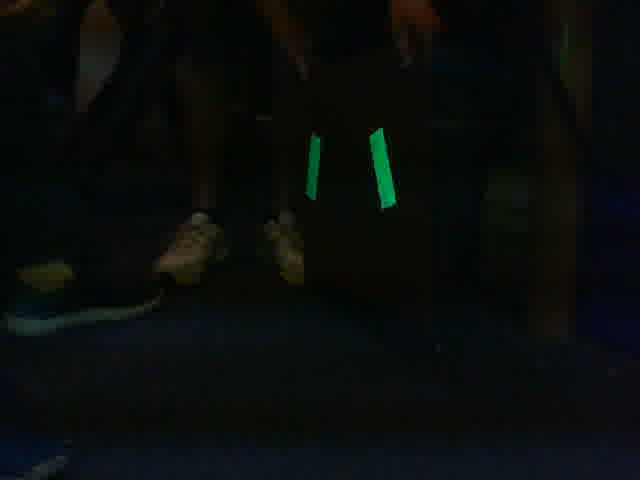target: (304, 127, 398, 210)
